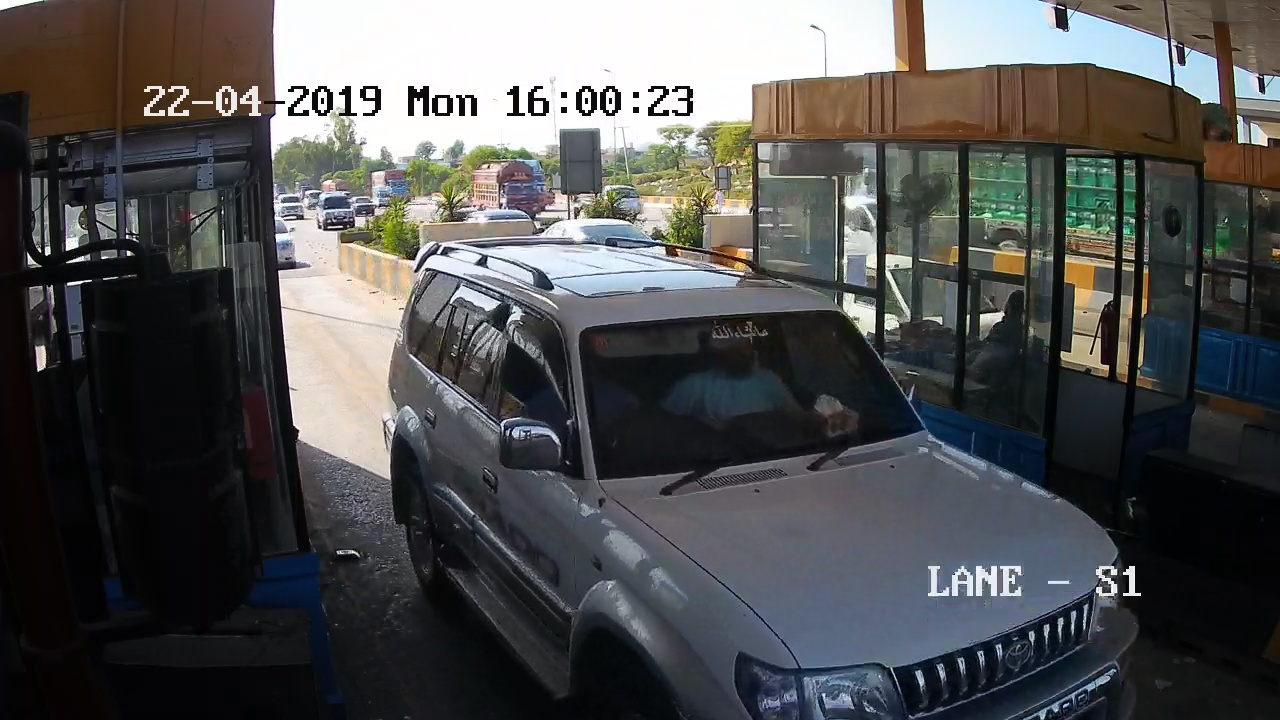car: (349, 231, 1140, 720)
